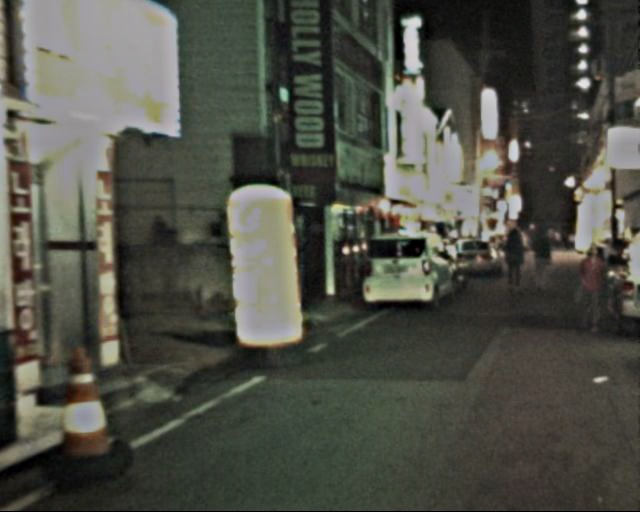person: (574, 244, 613, 335), (501, 227, 538, 299), (531, 226, 562, 292)
